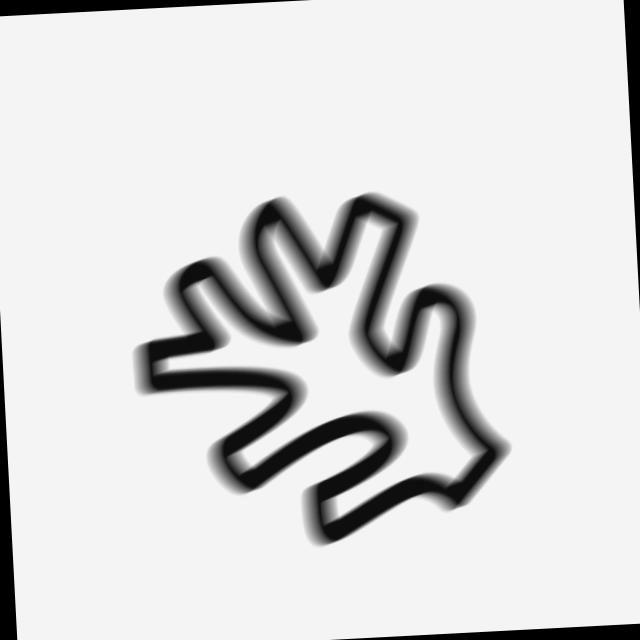coral: (117, 174, 524, 564)
